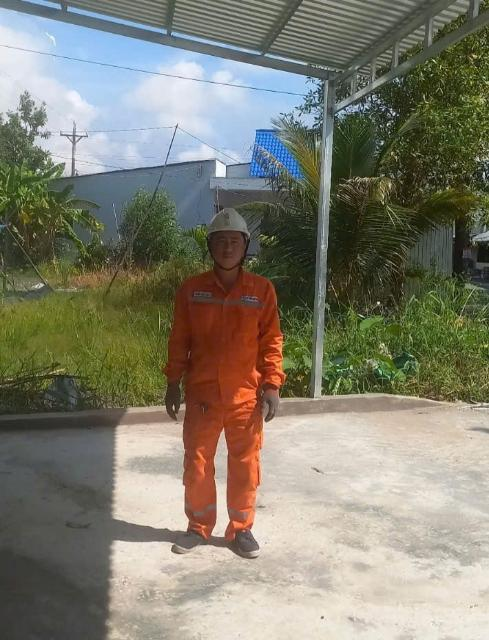gloves: (245, 380, 290, 428), (150, 380, 190, 419)
helmet: (196, 203, 265, 246)
shoes: (166, 518, 210, 559), (221, 523, 269, 560)
